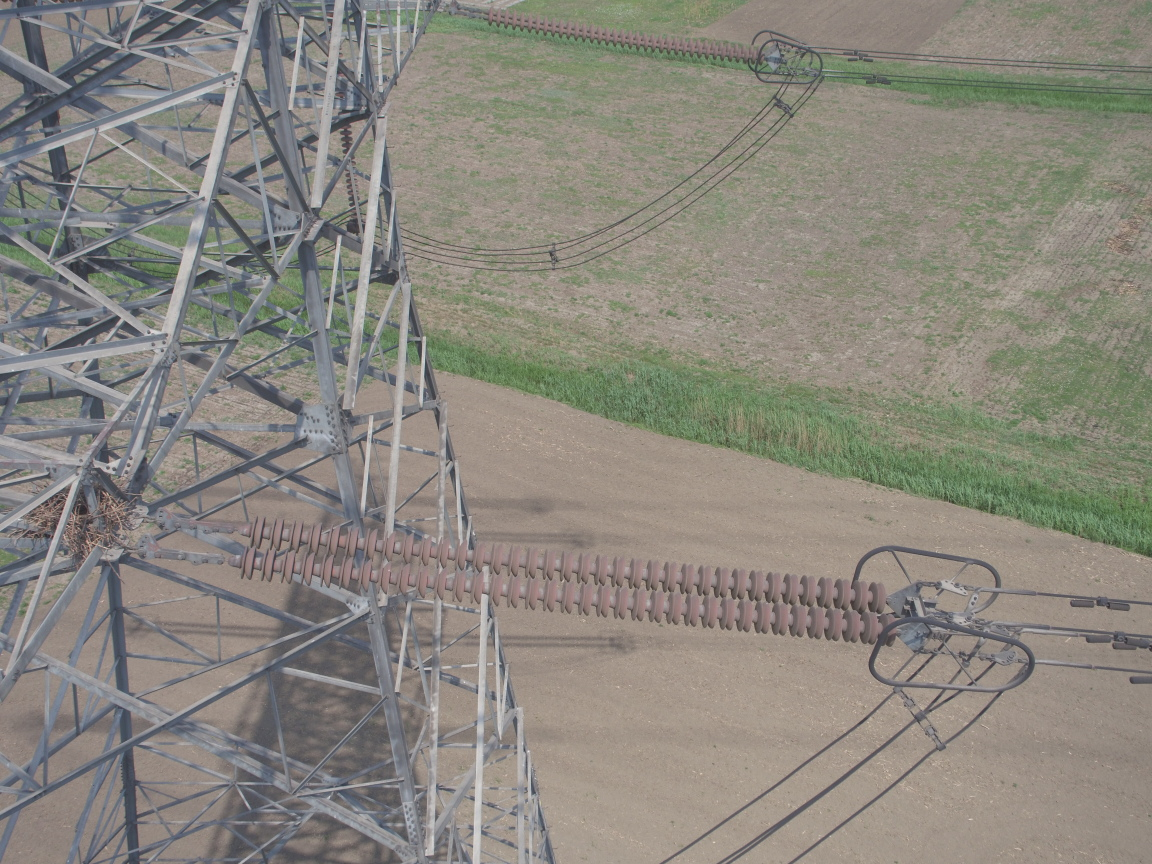insulator: (198, 511, 906, 648), (481, 4, 761, 68)
